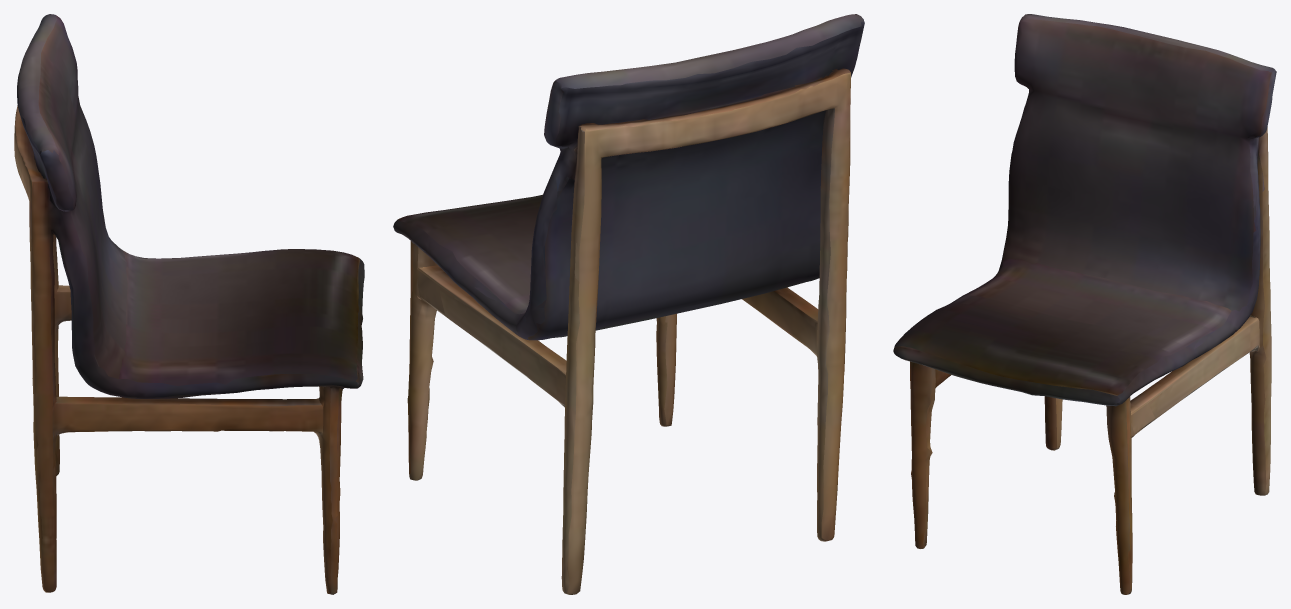
3 renders of one model, left to right at view 1: azimuth 30°, elevation 25°; view 2: azimuth 150°, elevation 25°; view 3: azimuth 270°, elevation 25°, orthographic. The views are drawn at different scales.
Parts seen in each view (by area): view 1: world; view 2: world; view 3: world.
Boxes of the visible parts, x1=… form: world: x1=14, y1=14, x2=364, y2=594; world: x1=393, y1=14, x2=864, y2=594; world: x1=893, y1=14, x2=1276, y2=594.
Bounding box in the file's own units: 1.03 × 1.25 × 0.994.
Materials: 1 (1 with a texture image).
